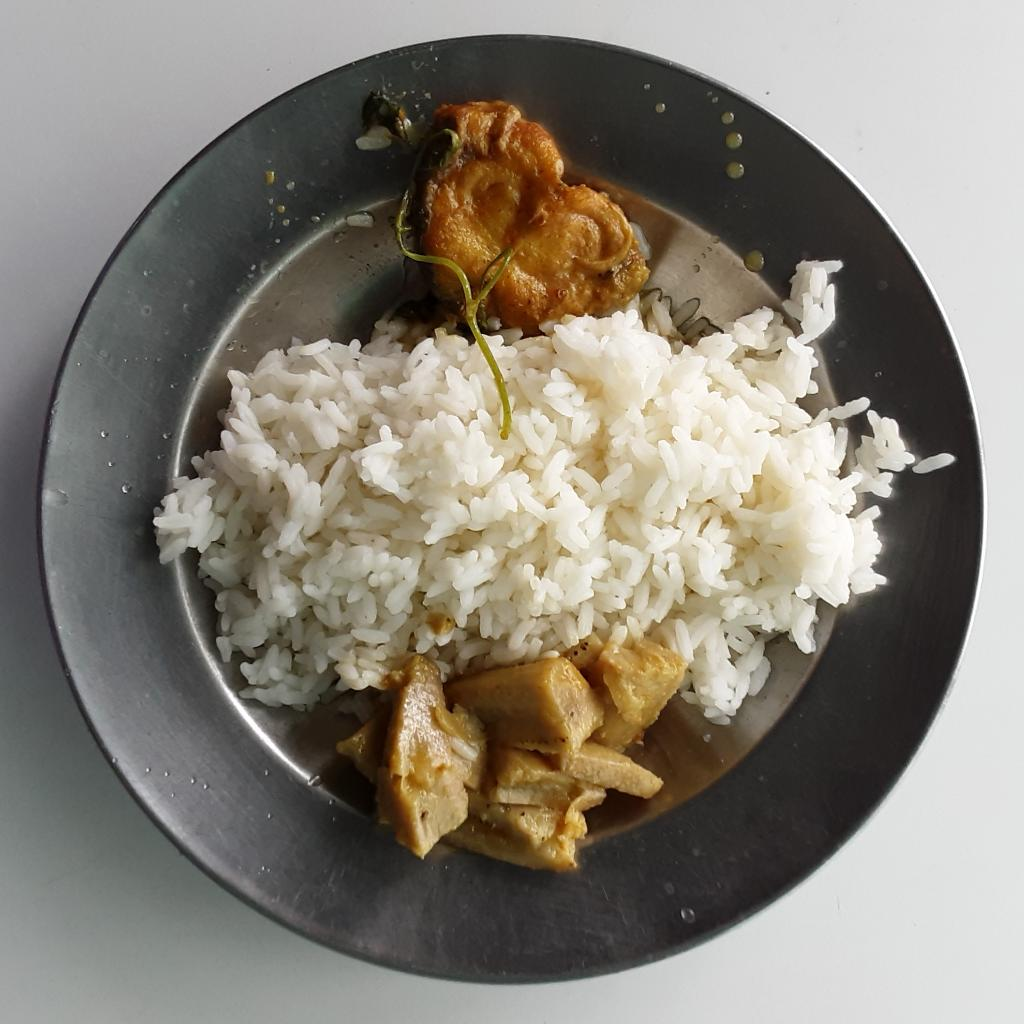fish: (423, 100, 655, 325)
kochu: (334, 628, 674, 865)
rice: (150, 257, 953, 721)
